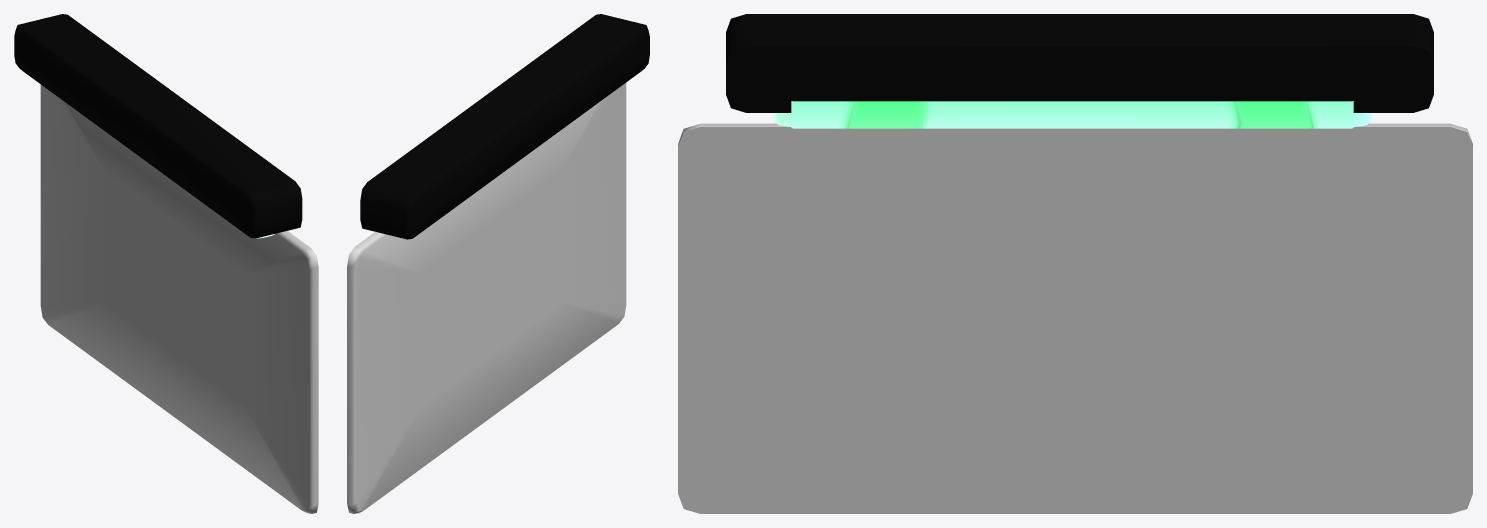
The model's file is SM_Sign_Exit.fbx.
The picture shows the model from 3 angles, left to right: view 1: azimuth 30°, elevation 25°; view 2: azimuth 150°, elevation 25°; view 3: azimuth 270°, elevation 25°; orthographic projection. The views are drawn at different scales.
Parts seen in each view (by area): view 1: SM_Sign_Exit_LOD0; view 2: SM_Sign_Exit_LOD0; view 3: SM_Sign_Exit_LOD0.
Part boxes in pixels (<box>): SM_Sign_Exit_LOD0: <box>14,14,318,513</box>; SM_Sign_Exit_LOD0: <box>347,14,649,513</box>; SM_Sign_Exit_LOD0: <box>678,14,1472,513</box>.
Size of the model in its own units: 5.84 by 55.85 by 36.28.
